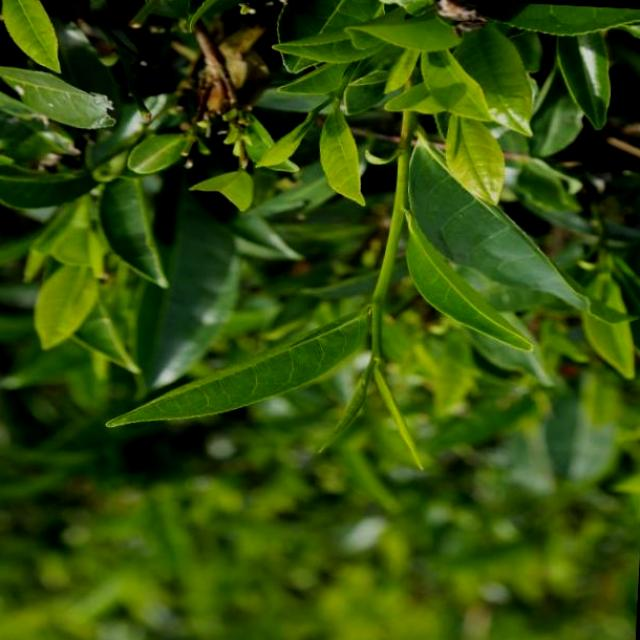Stem: (373, 339, 381, 358)
